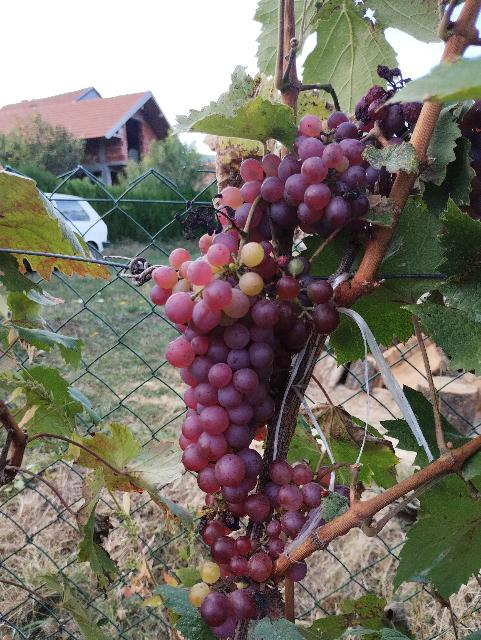grapes: (151, 231, 340, 640), (220, 66, 421, 238)
